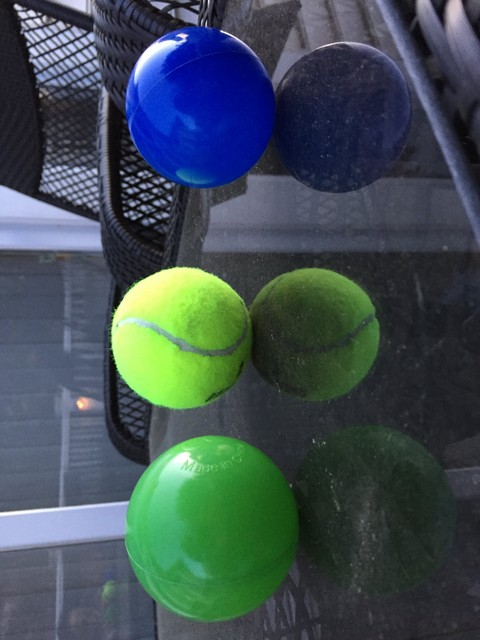Ball: (120, 436, 298, 624)
